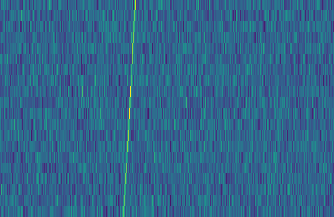signal: (118, 0, 140, 217)
